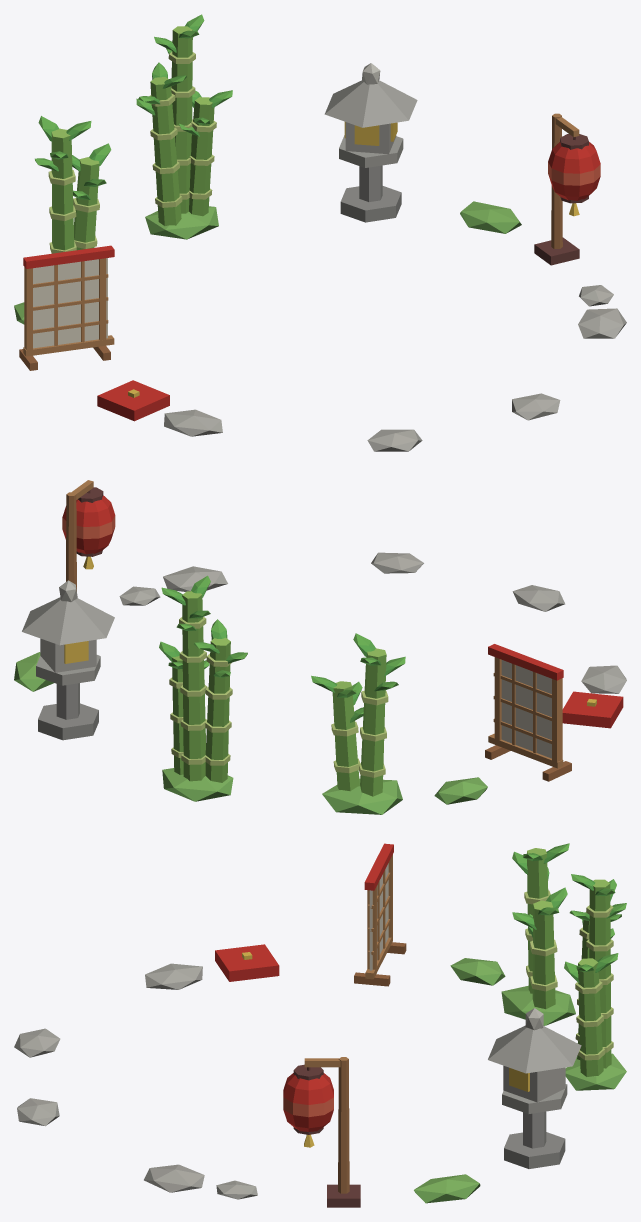
The model's file is habitat_theme_dojo.fbx.
3 renders of one model, top to bottom at view 1: azimuth 30°, elevation 25°; view 2: azimuth 150°, elevation 25°; view 3: azimuth 270°, elevation 25°, orthographic.
Visible parts, largest first — view 1: habitat_theme_dojo; view 2: habitat_theme_dojo; view 3: habitat_theme_dojo.
Part boxes in pixels (x1,y1,x2,y2): habitat_theme_dojo: (14, 14, 626, 451); habitat_theme_dojo: (14, 480, 626, 814); habitat_theme_dojo: (14, 843, 626, 1207).
Size of the model in its own units: 7.47 by 2.7 by 7.33.
